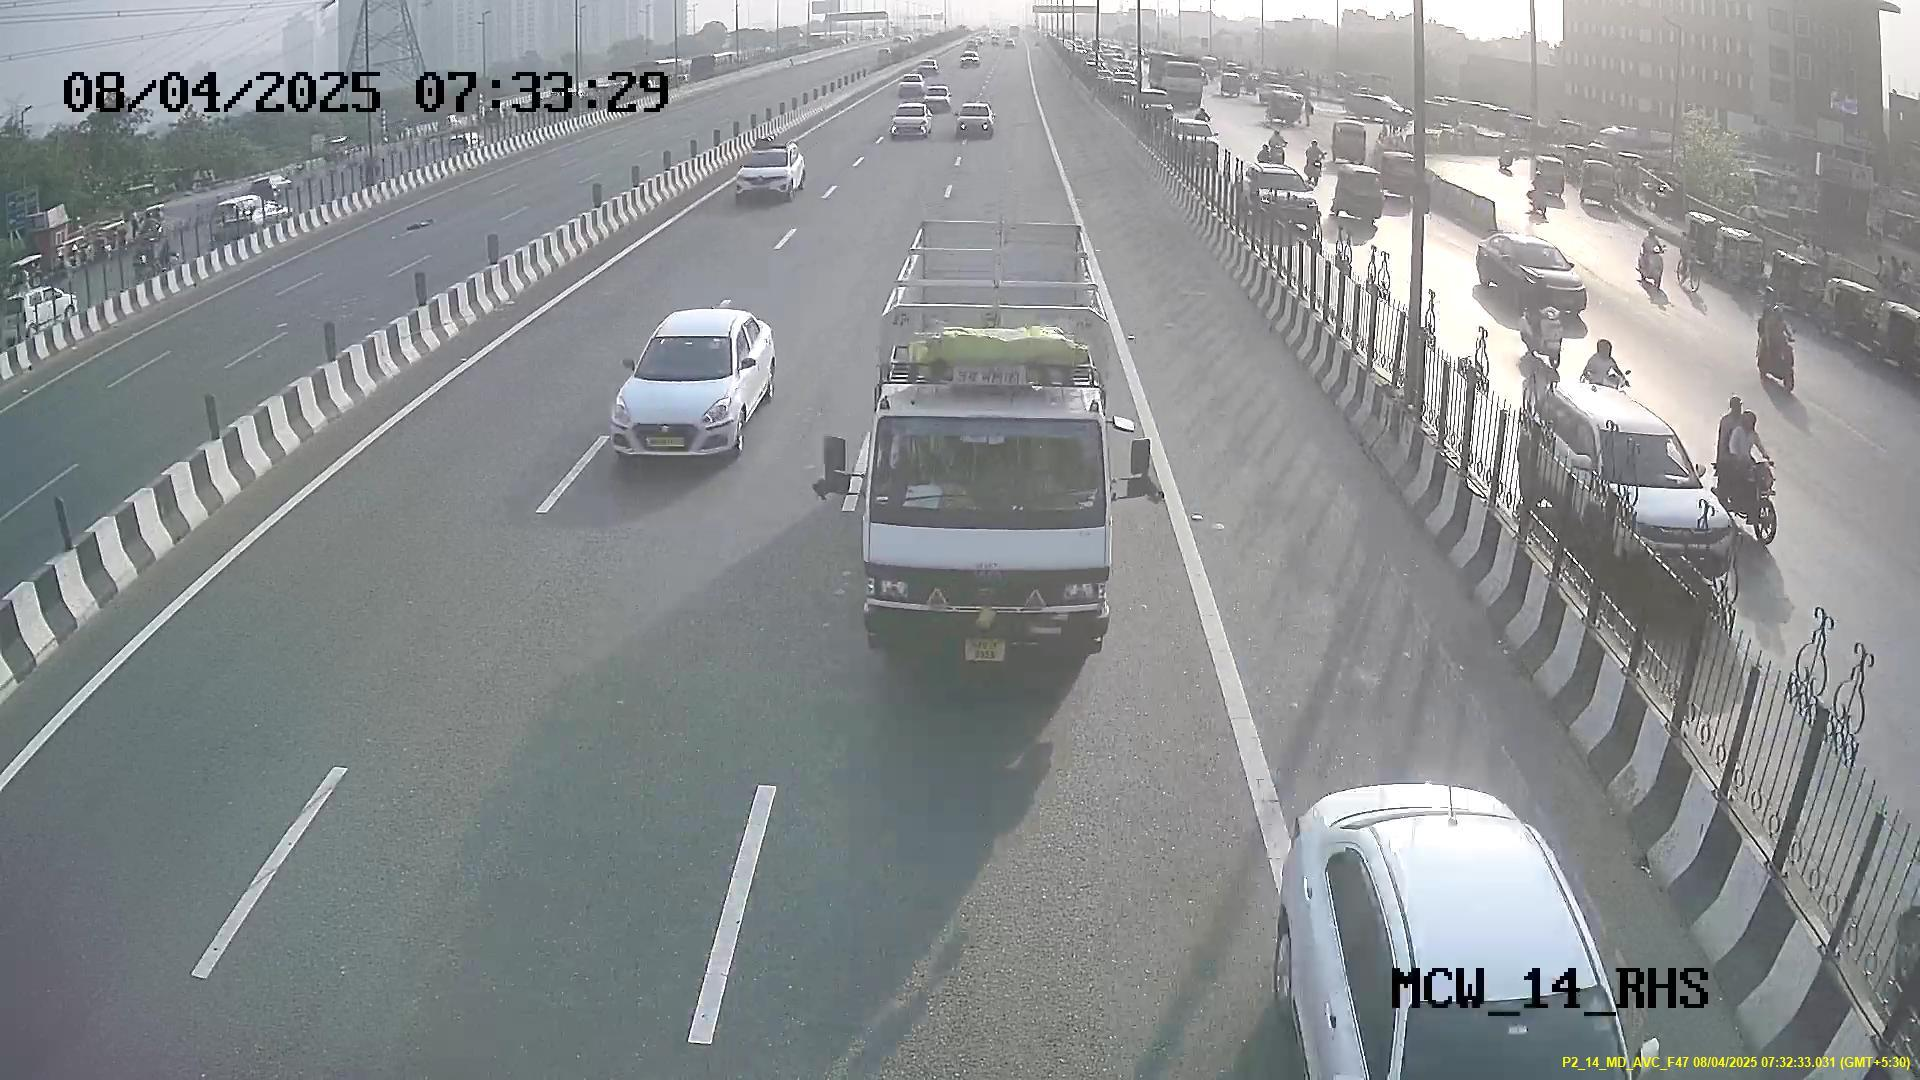car: (608, 320, 756, 460)
lcv: (855, 386, 1120, 667)
